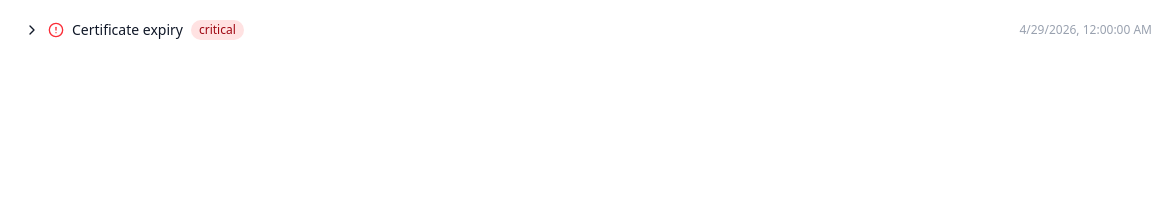
Scenario: HealthChecksTab › certificate_expiry highlights certs expiring < 30 days in yellow, < 7 days in red
Expected: the text "Certificate expiry" is shown, [72,20,183,40]
Click the button "Certificate expiry critical 4/29/2026, 12:00:00 AM": x=127, y=30 [12,12,1164,48]
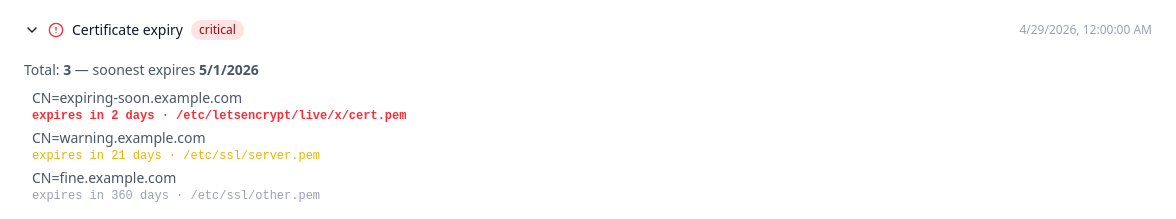
Now the text "CN=expiring-soon.example.com" is shown, box [32,88,242,107]
Now the text "expires in 2 days · /etc/letsencrypt/live/x/cert.pem" is shown, box [32,109,406,123]
Now the text "expires in 21 days · /etc/ssl/server.pem" is shown, box [32,149,320,163]
